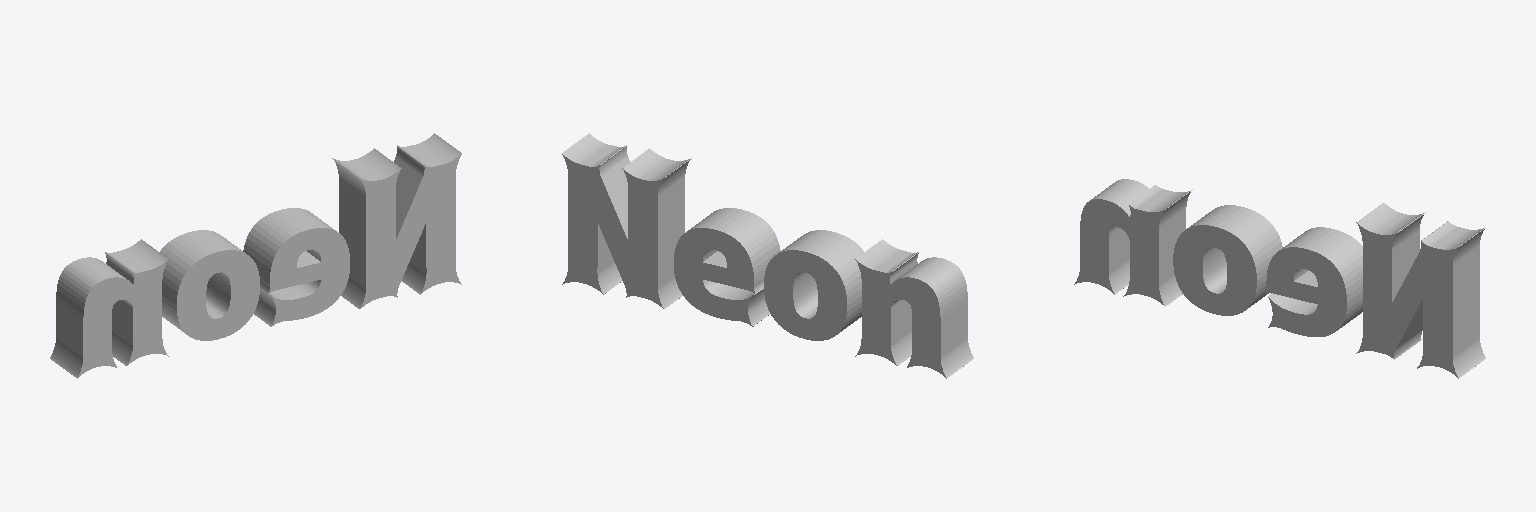
Rendered from Titletext.obj.
3 views of the same model, side by side, from view 1: azimuth 30°, elevation 25°; view 2: azimuth 150°, elevation 25°; view 3: azimuth 330°, elevation 25° (orthographic).
Parts seen in each view (by area): view 1: テキスト; view 2: テキスト; view 3: テキスト.
Part boxes in pixels (left/top/right/bottom): テキスト: left=50, top=133, right=461, bottom=378; テキスト: left=562, top=133, right=973, bottom=378; テキスト: left=1074, top=179, right=1485, bottom=378.
Size of the model in its own units: 1.63 by 0.5314 by 0.2.